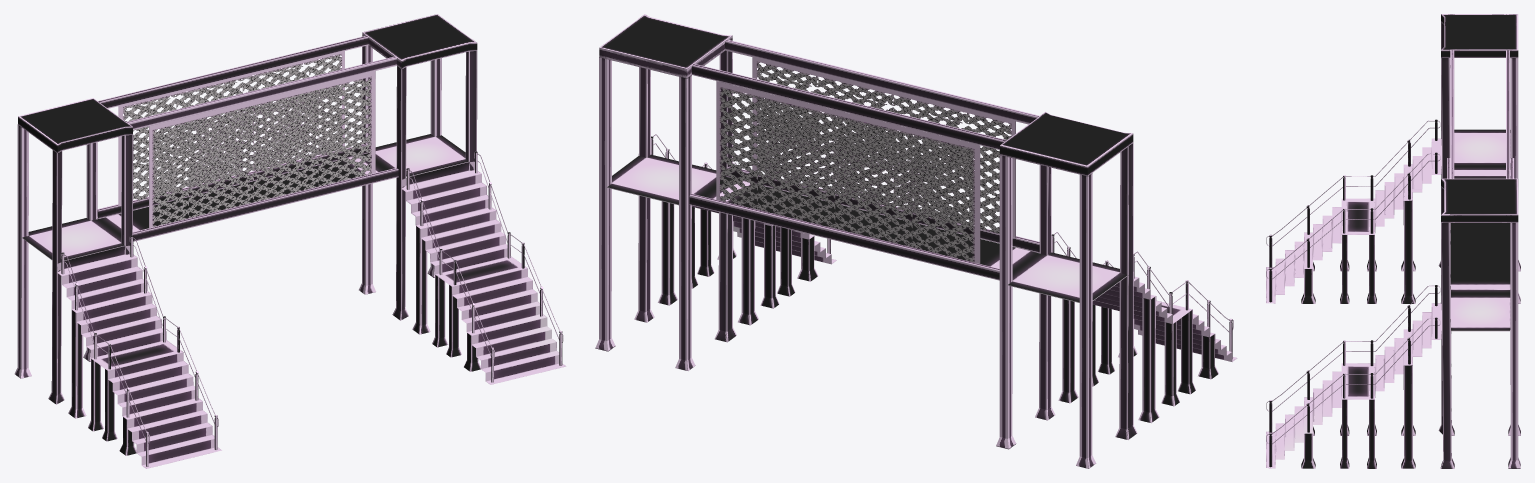
The model's file is Bridge_Export.fbx.
The picture shows the model from 3 angles, left to right: view 1: azimuth 30°, elevation 25°; view 2: azimuth 150°, elevation 25°; view 3: azimuth 270°, elevation 25°; orthographic projection. The views are drawn at different scales.
Visible parts, largest first — view 1: polySurface21, pPlane1, pPlane2, pCube1, pCube2, pillar6, polySurface22, polySurface23, polySurface24, pillar18, pillar5, pillar22 (+11 smaller); view 2: pPlane2, polySurface21, pPlane1, pCube1, pCube2, pillar5, pillar6, pillar12, polySurface22, polySurface25, pillar22, pillar13 (+15 smaller); view 3: polySurface21, pCube2, pCube1, pillar14, pillar13, pillar11, pillar12, pillar17, pillar8, polySurface23, pillar18, polySurface22 (+6 smaller).
Part boxes in pixels (bbox=[...]): polySurface21: bbox=[22, 134, 565, 468]; pPlane1: bbox=[149, 71, 375, 228]; pPlane2: bbox=[118, 51, 344, 205]; pCube1: bbox=[18, 98, 132, 153]; pCube2: bbox=[362, 14, 477, 69]; pillar6: bbox=[14, 124, 31, 378]; polySurface22: bbox=[98, 35, 368, 108]; polySurface23: bbox=[126, 56, 396, 129]; polySurface24: bbox=[132, 168, 398, 241]; pillar18: bbox=[392, 66, 408, 320]; pillar5: bbox=[48, 150, 64, 404]; pillar22: bbox=[359, 45, 375, 294]; pPlane2: bbox=[716, 81, 980, 263]; polySurface21: bbox=[606, 154, 1237, 361]; pPlane1: bbox=[752, 57, 1015, 237]; pCube1: bbox=[1000, 112, 1133, 176]; pCube2: bbox=[599, 14, 732, 78]; pillar5: bbox=[1115, 143, 1137, 439]; pillar6: bbox=[1076, 173, 1096, 468]; pillar12: bbox=[996, 155, 1016, 449]; polySurface22: bbox=[692, 63, 1006, 149]; polySurface25: bbox=[689, 194, 999, 280]; pillar22: bbox=[675, 75, 695, 370]; pillar13: bbox=[595, 57, 615, 351]; polySurface21: bbox=[1266, 129, 1510, 468]; pCube2: bbox=[1441, 178, 1518, 222]; pCube1: bbox=[1441, 14, 1518, 57]; pillar14: bbox=[1440, 222, 1454, 468]; pillar13: bbox=[1508, 222, 1520, 468]; pillar11: bbox=[1441, 58, 1450, 178]; pillar12: bbox=[1510, 58, 1520, 303]; pillar17: bbox=[1401, 362, 1415, 468]; pillar8: bbox=[1401, 198, 1415, 303]; polySurface23: bbox=[1450, 50, 1454, 178]; pillar18: bbox=[1438, 187, 1454, 435]; polySurface22: bbox=[1506, 50, 1509, 178].
Size of the model in its own units: 50.81 by 29.55 by 26.94.
